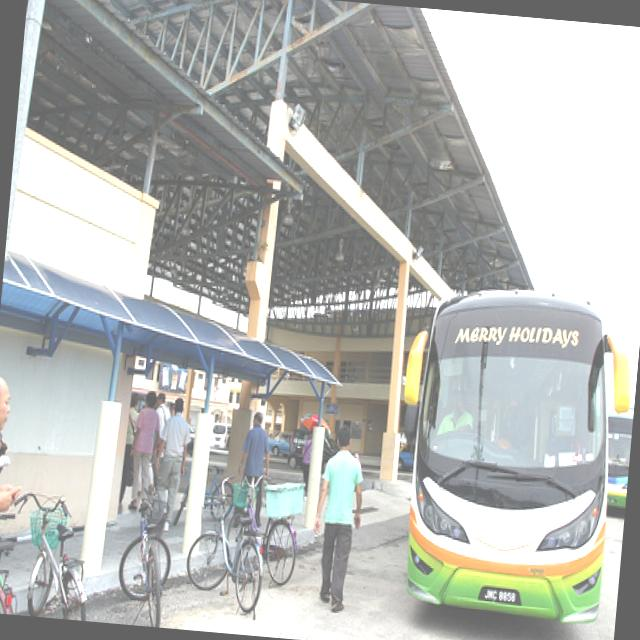Vehicle: (382, 280, 640, 622), (596, 397, 634, 511), (286, 428, 339, 474), (186, 420, 232, 462), (266, 429, 290, 456)
